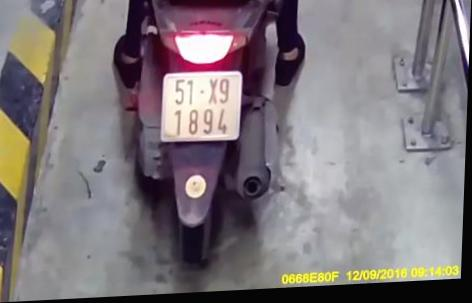License_Plate: (151, 64, 251, 150)
